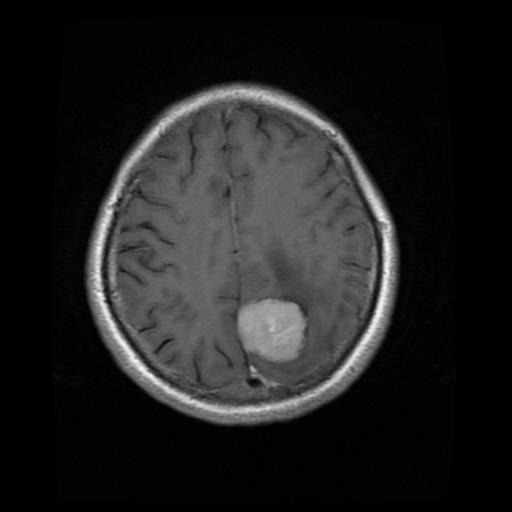Tumour-Meningioma: (212, 274, 320, 386)
